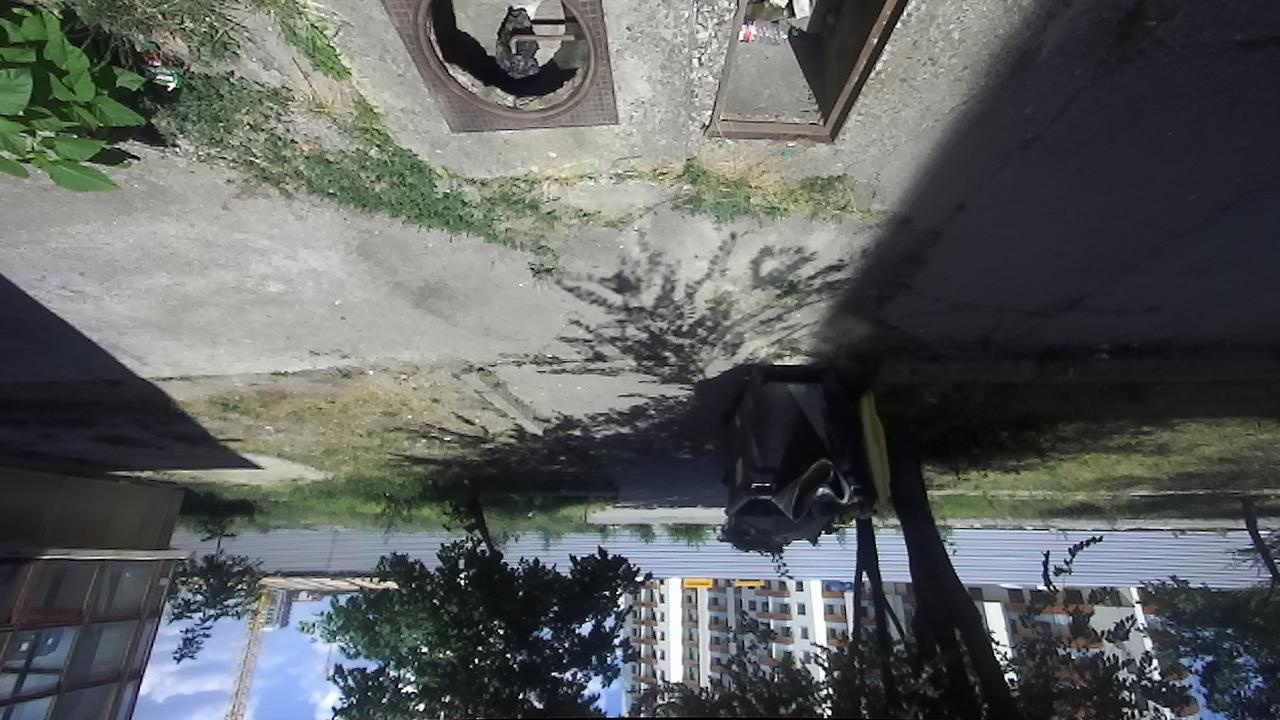drain: (702, 0, 910, 146), (397, 0, 594, 120)
